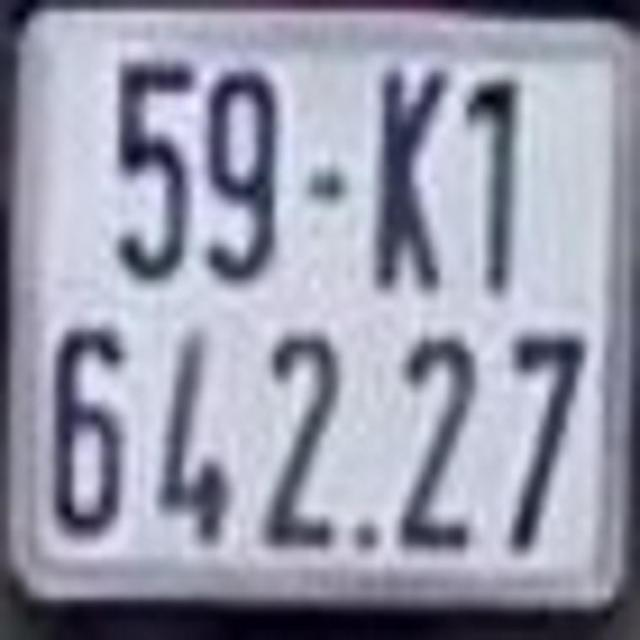1: (461, 64, 528, 298)
2: (396, 320, 480, 561), (261, 314, 342, 553)
4: (154, 314, 227, 549)
5: (112, 57, 193, 281)
6: (49, 316, 128, 534)
7: (504, 320, 588, 554)
9: (200, 57, 276, 282)
K: (372, 62, 449, 292)
